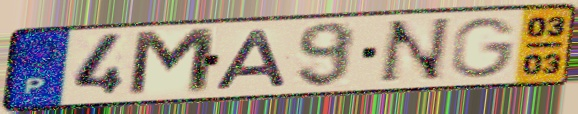4: (68, 30, 134, 101)
9: (295, 20, 359, 91)
A: (208, 27, 292, 92)
G: (449, 15, 521, 80)
M: (124, 26, 220, 100)
N: (373, 15, 455, 87)
